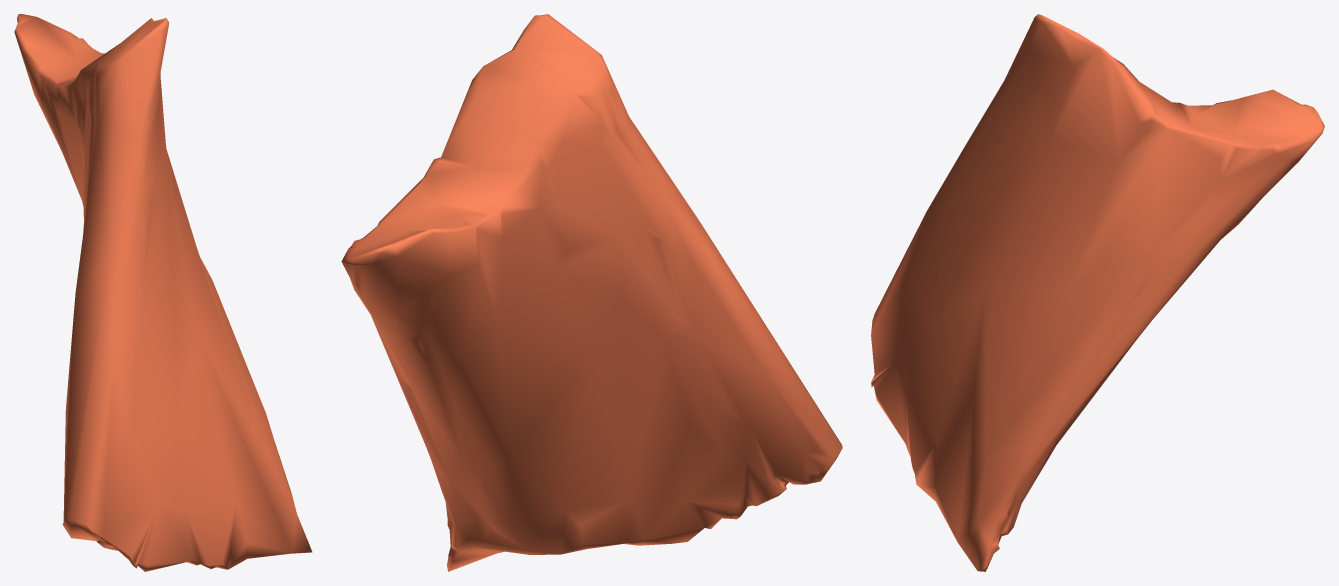
The model's file is Rectus_capitis_lateralis_left.glb.
The picture shows the model from 3 angles, left to right: view 1: azimuth 30°, elevation 25°; view 2: azimuth 150°, elevation 25°; view 3: azimuth 270°, elevation 25°; orthographic projection. The views are drawn at different scales.
Parts seen in each view (by area): view 1: Rectus_lateralis_capitis_muscle.l_Generated_Mesh_From_X3D.24; view 2: Rectus_lateralis_capitis_muscle.l_Generated_Mesh_From_X3D.24; view 3: Rectus_lateralis_capitis_muscle.l_Generated_Mesh_From_X3D.24.
Part boxes in pixels (x1,y1,x2,y2): Rectus_lateralis_capitis_muscle.l_Generated_Mesh_From_X3D.24: (14,14,312,571); Rectus_lateralis_capitis_muscle.l_Generated_Mesh_From_X3D.24: (341,14,842,571); Rectus_lateralis_capitis_muscle.l_Generated_Mesh_From_X3D.24: (871,14,1324,571).
Bounding box in the file's own units: 0.0123 × 0.0213 × 0.0174.
